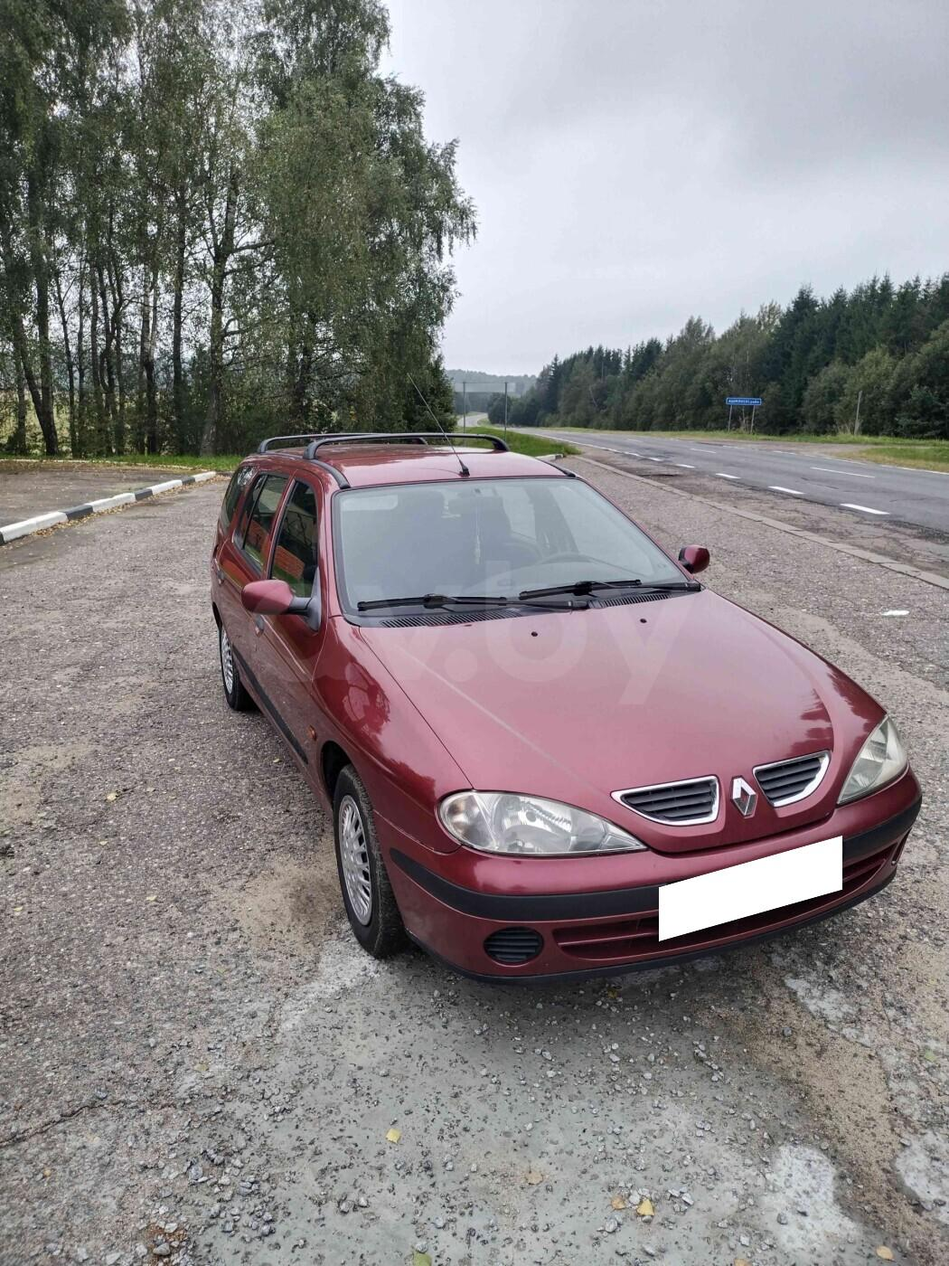Megane_1999-2003: (201, 436, 915, 1006)
